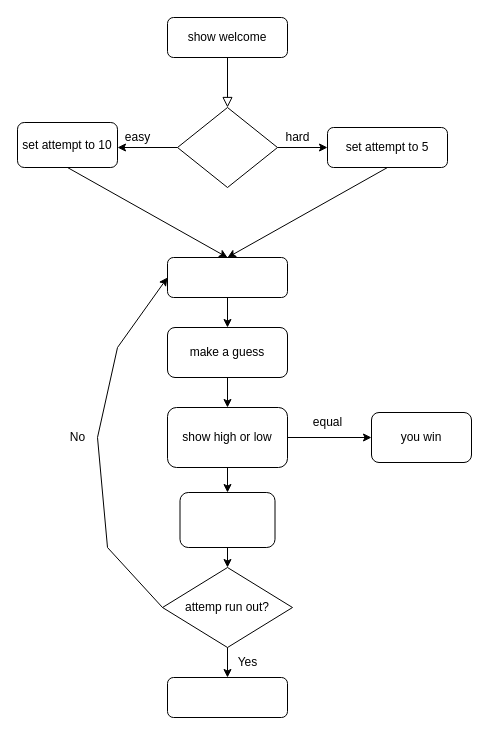
Image size: 489x735. Some labels were removed from this diagram. Each missing label, with the centre of its shape:
"atempt -1" goes at point 227,520.
"easy mode?" goes at point 227,147.
"show attempt" goes at point 227,277.
"you lose" goes at point 227,697.
